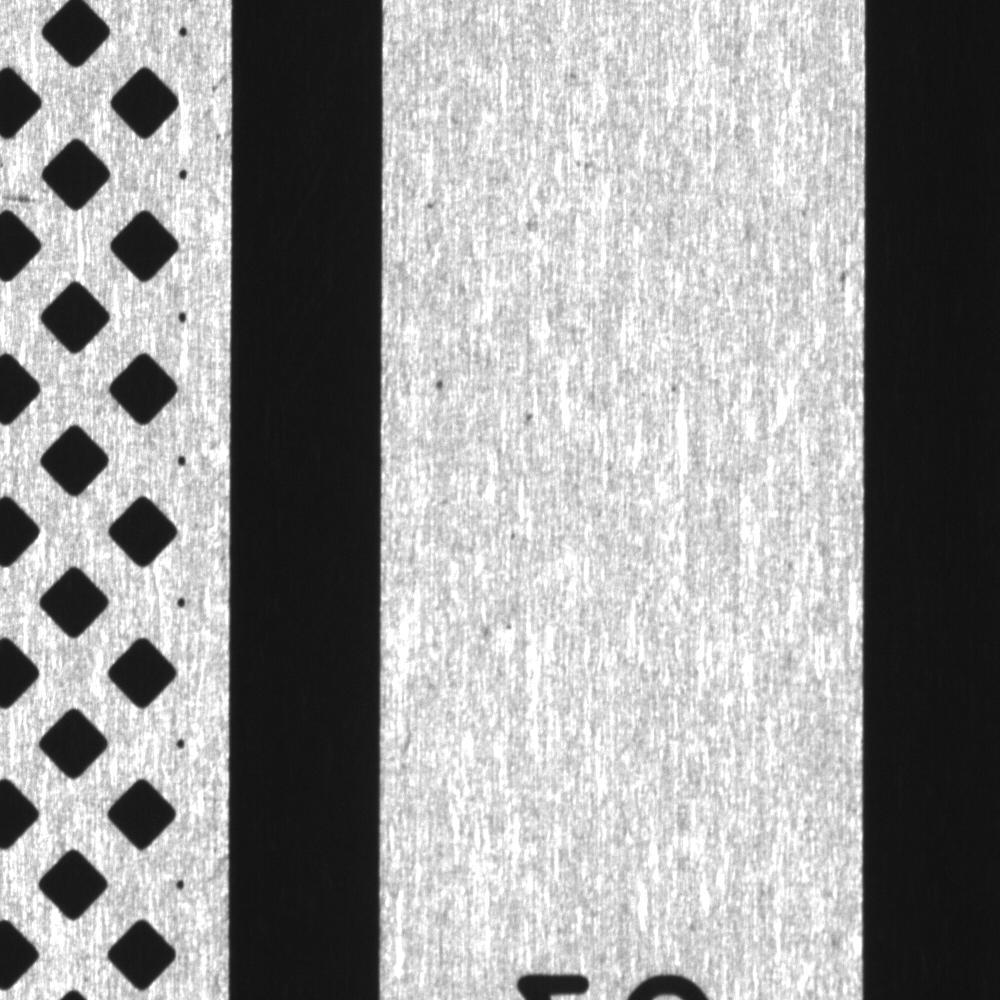Etching: (511, 394, 550, 448), (468, 614, 529, 648), (830, 259, 860, 308), (503, 519, 529, 548)
Pinhole: (426, 363, 460, 404), (414, 184, 447, 223), (657, 370, 689, 401)
